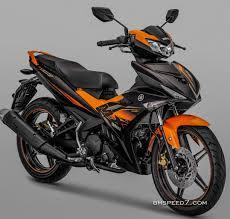motorcycle: (0, 3, 230, 219)
